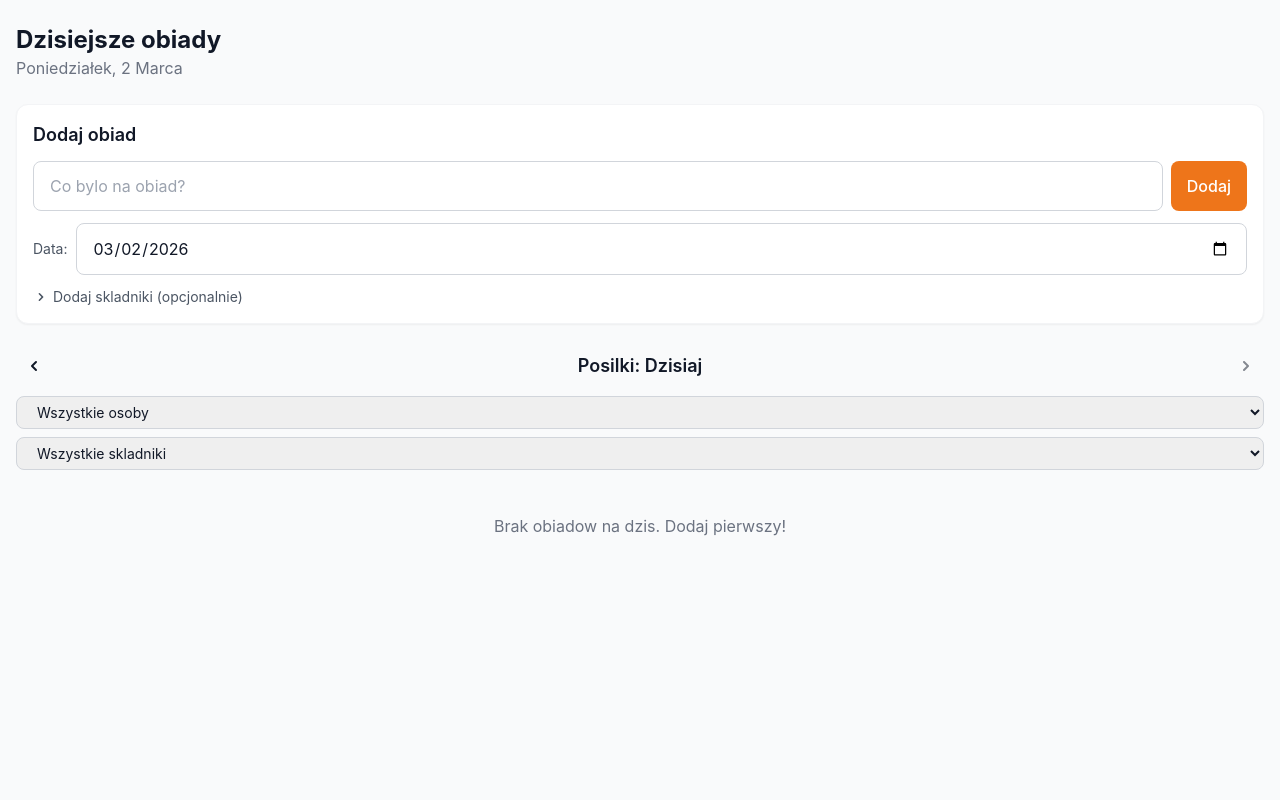
Test: HomePage › with family members › shows like button for each family member
Step 1. Type "Pierogi" into the dropdown with placeholder "Co bylo na obiad?" → {"x": 598, "y": 186}, box [33,161,1163,211]
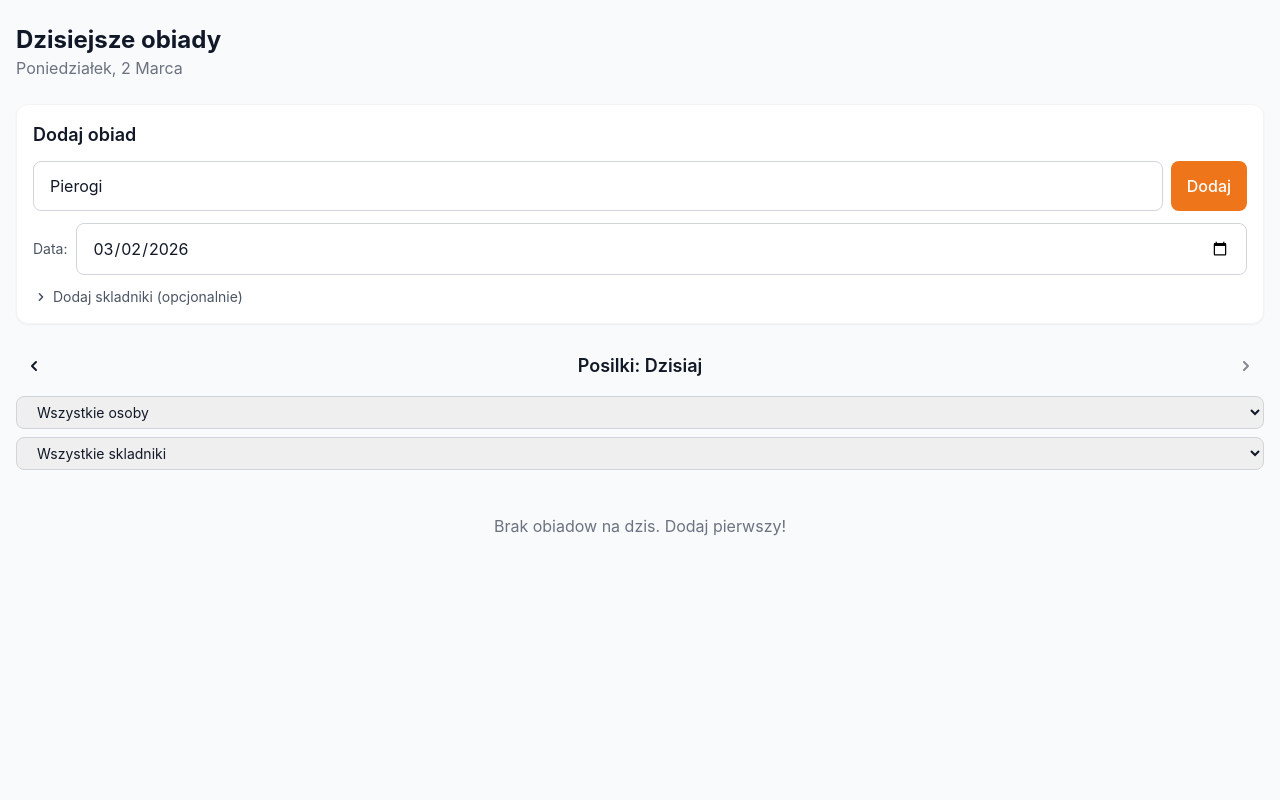
Step 2. Click the button with aria-label "dodaj obiad" → {"x": 1209, "y": 186}, box [1171,161,1247,211]
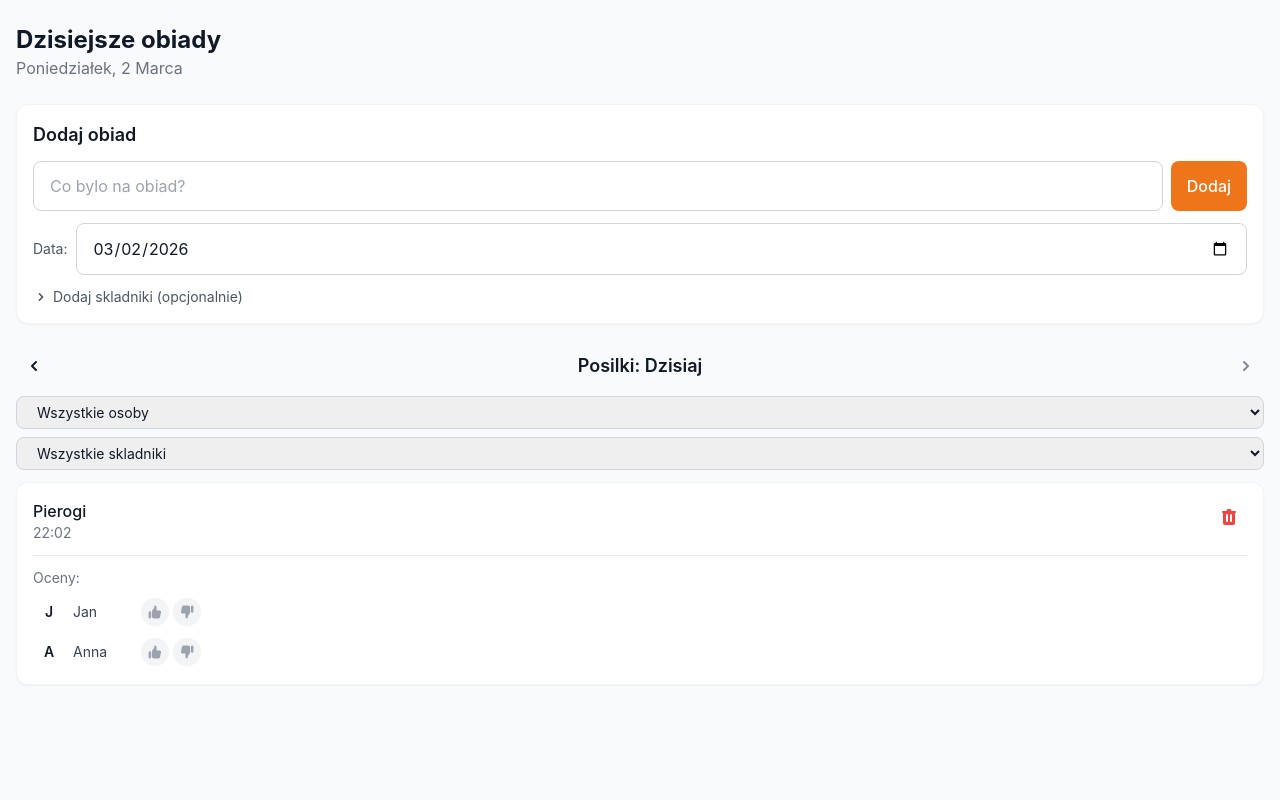
Expected: the text "Pierogi" is shown, [33,499,86,523]
Expected: the button named "Jan lubi Pierogi" is shown, [141,598,169,626]
Expected: the button named "Anna lubi Pierogi" is shown, [141,638,169,666]
